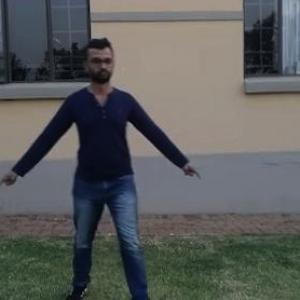land: (8, 40, 181, 297)
